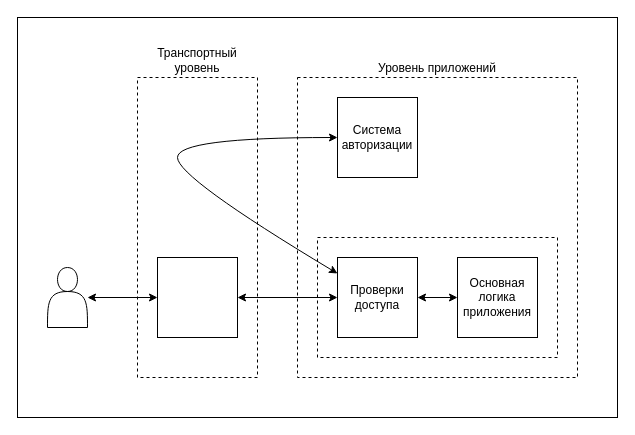
Image size: 635x435. Some labels were removed from this diagram. The shapes that lost their labels are listed below. From the top down, each one's box as (x1, y1, x2, y2) in pixels, then its label:
(156, 256, 238, 338): Иденти-фикация и аутенти-фикация
(316, 236, 558, 358): Веб-Приложение
